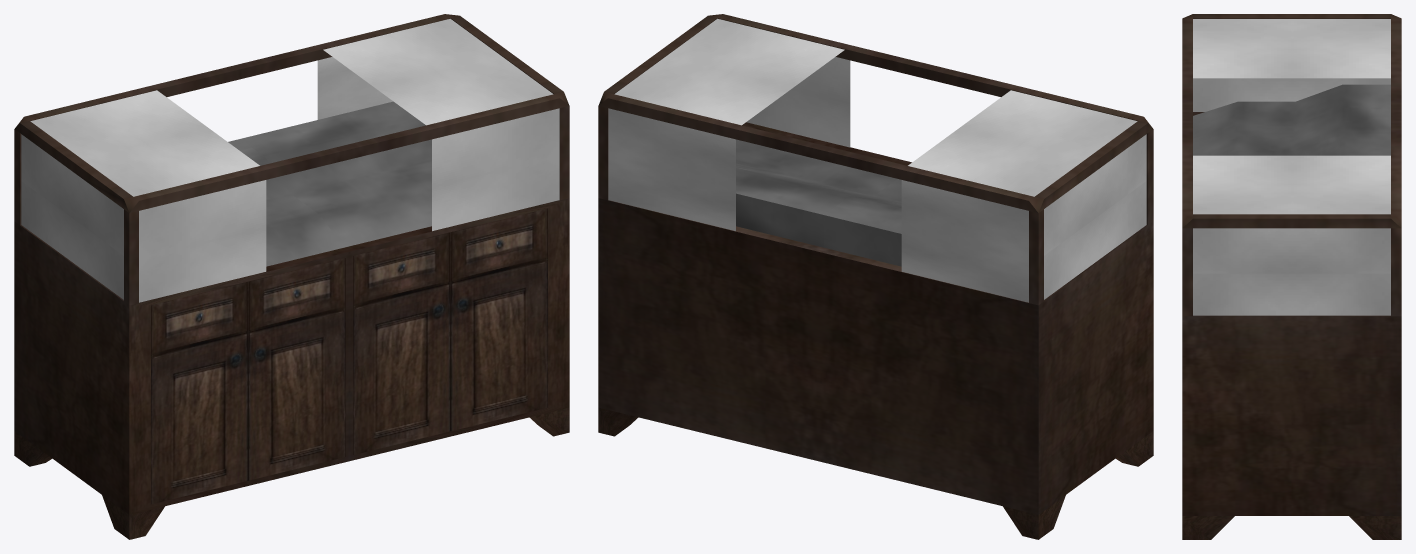
Rendered from cabinet_jeweler_cabinetShort.fbx.
The picture shows the model from 3 angles, left to right: view 1: azimuth 30°, elevation 25°; view 2: azimuth 150°, elevation 25°; view 3: azimuth 270°, elevation 25°; orthographic projection. The views are drawn at different scales.
Visible parts, largest first — view 1: cabinet_base, cabinet_glass, cabinet_displayRise, cabinet_glassFrame, cabinet_foot_5, cabinet_foot_3, cabinet_foot_4; view 2: cabinet_base, cabinet_glass, cabinet_glassFrame, cabinet_displayRise, cabinet_foot_4, cabinet_foot_2, cabinet_foot_5; view 3: cabinet_glass, cabinet_base, cabinet_displayRise, cabinet_glassFrame, cabinet_foot_3, cabinet_foot_2.
Part boxes in pixels (x1,y1,x2,y2): cabinet_base: (14,198,569,514); cabinet_glass: (21,18,559,302); cabinet_displayRise: (228,101,431,266); cabinet_glassFrame: (14,14,569,305); cabinet_foot_5: (102,495,164,539); cabinet_foot_3: (529,407,569,436); cabinet_foot_4: (14,431,51,466); cabinet_base: (598,122,1153,514); cabinet_glass: (608,18,1146,302); cabinet_glassFrame: (598,14,1153,305); cabinet_displayRise: (736,139,901,266); cabinet_foot_4: (1003,495,1065,539); cabinet_foot_2: (598,407,638,436); cabinet_foot_5: (1116,431,1153,466); cabinet_glass: (1193,19,1390,315); cabinet_base: (1182,112,1401,515); cabinet_displayRise: (1193,84,1390,155); cabinet_glassFrame: (1182,14,1401,316); cabinet_foot_3: (1182,516,1234,539); cabinet_foot_2: (1349,516,1401,539).
Size of the model in its own units: 460 by 337 by 208.
3 materials, 3 textured.
